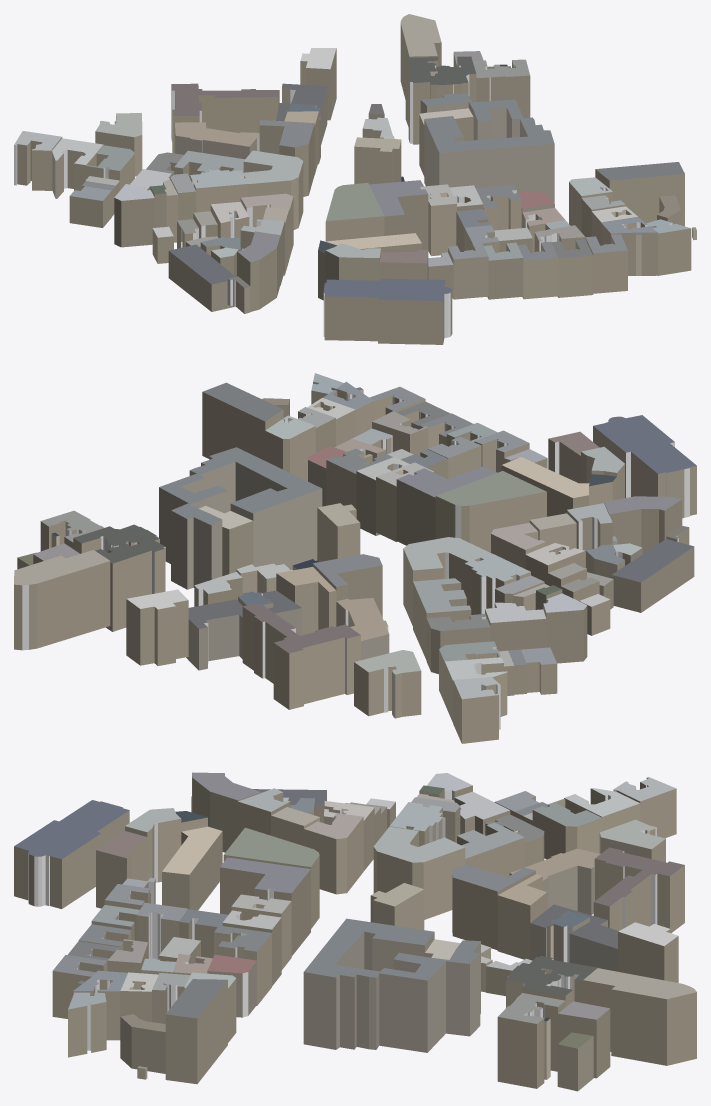
The picture shows the model from 3 angles, top to bottom: view 1: azimuth 30°, elevation 25°; view 2: azimuth 150°, elevation 25°; view 3: azimuth 270°, elevation 25°; orthographic projection. The views are drawn at different scales.
Parts seen in each view (by area): view 1: tuile; view 2: tuile; view 3: tuile.
Part boxes in pixels (left/top/right/bottom): tuile: left=14, top=14, right=696, bottom=344; tuile: left=14, top=373, right=696, bottom=743; tuile: left=14, top=772, right=696, bottom=1091.
Size of the model in its own units: 263 by 38.99 by 294.
